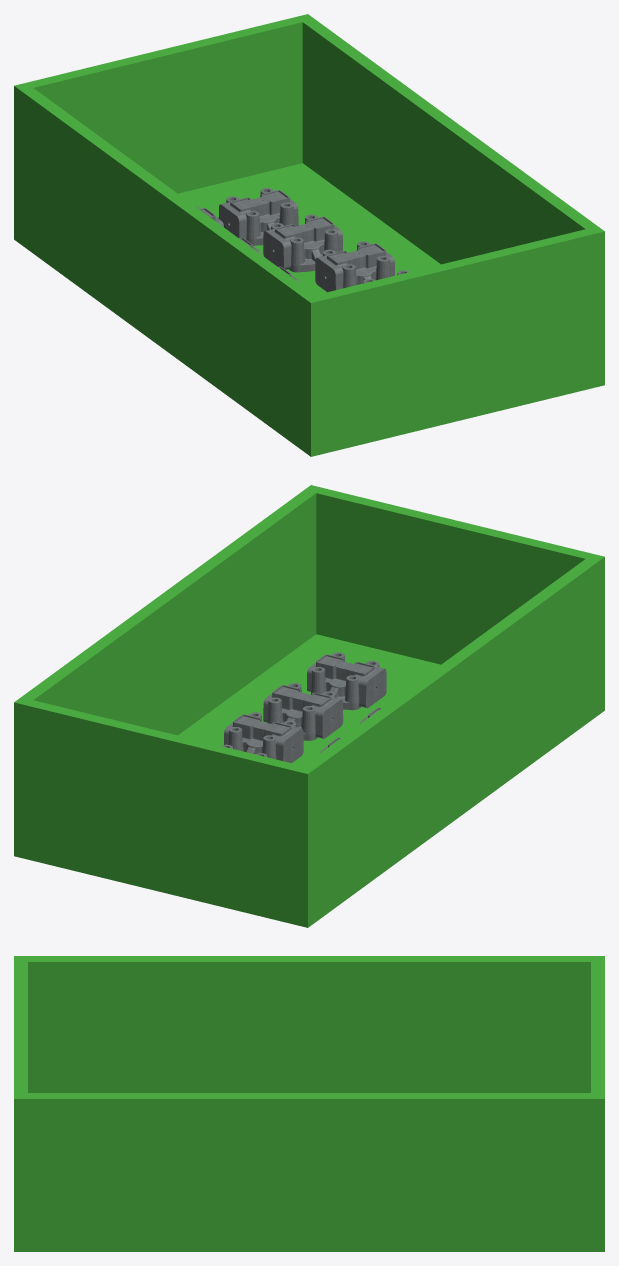
Rendered from Box_full.glb.
3 views of the same model, one above another, from view 1: azimuth 30°, elevation 25°; view 2: azimuth 150°, elevation 25°; view 3: azimuth 270°, elevation 25° (orthographic).
Visible parts, largest first — view 1: Cube.001, Cube.002, Cube.004, Cube.005, Cube.003, Mesh_0.008, Mesh_0.009, Mesh_0.005; view 2: Cube.005, Cube.002, Cube.004, Cube.001, Cube.003, Mesh_0.007, Mesh_0.006, Mesh_0.005; view 3: Cube.004, Cube.002, Cube.001, Cube.005.
Part boxes in pixels (<box>): Cube.001: <box>304,226,604,456</box>; Cube.002: <box>21,88,315,451</box>; Cube.004: <box>302,19,597,264</box>; Cube.005: <box>14,14,314,244</box>; Cube.003: <box>178,163,440,294</box>; Mesh_0.008: <box>263,214,342,272</box>; Mesh_0.009: <box>218,188,298,245</box>; Mesh_0.005: <box>315,241,394,292</box>; Cube.005: <box>14,697,314,927</box>; Cube.002: <box>303,559,597,922</box>; Cube.004: <box>21,490,316,735</box>; Cube.001: <box>304,485,604,715</box>; Cube.003: <box>178,634,440,765</box>; Mesh_0.007: <box>307,652,386,710</box>; Mesh_0.006: <box>263,683,343,740</box>; Mesh_0.005: <box>224,712,303,763</box>; Cube.004: <box>28,1093,590,1251</box>; Cube.002: <box>28,956,590,1092</box>; Cube.001: <box>14,956,27,1251</box>; Cube.005: <box>591,956,604,1251</box>.
Bounding box in the file's own units: 0.3 × 0.15 × 0.525.
41 materials, 40 textured.
